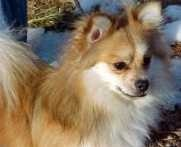Dog: (32, 3, 167, 145)
